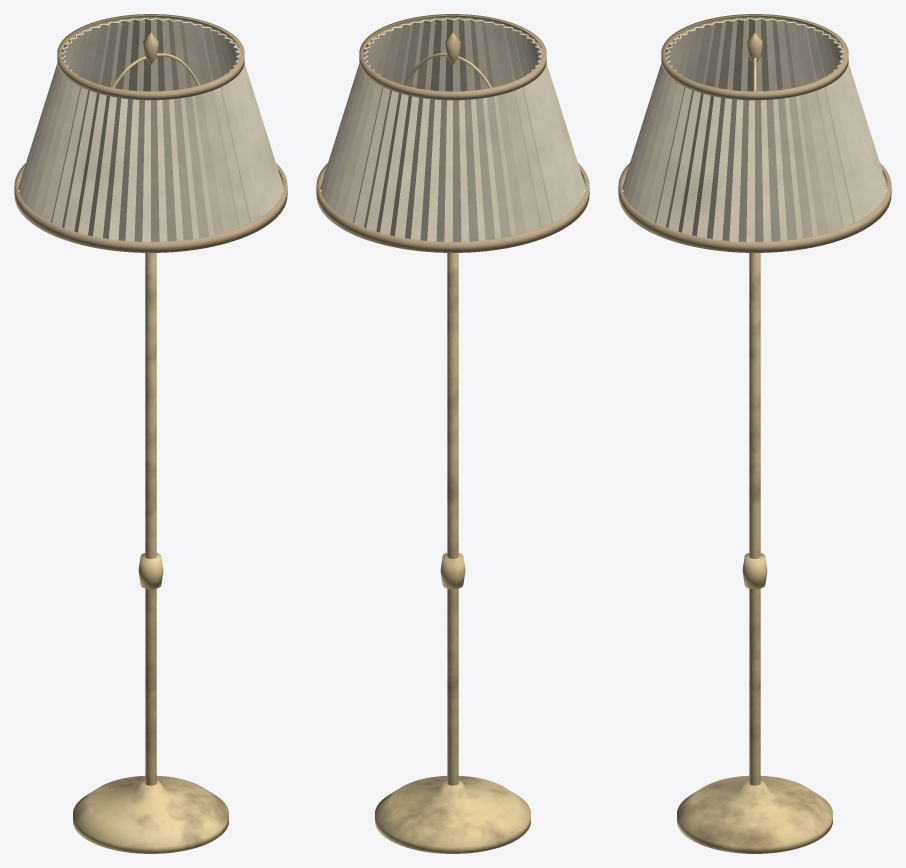
File: np_floor_lamp_1k.fbx
The picture shows the model from 3 angles, left to right: view 1: azimuth 30°, elevation 25°; view 2: azimuth 150°, elevation 25°; view 3: azimuth 270°, elevation 25°; orthographic projection.
Parts seen in each view (by area): view 1: np_floor_lamp; view 2: np_floor_lamp; view 3: np_floor_lamp.
Part boxes in pixels (x1,y1,x2,y2): np_floor_lamp: (14,14,287,853); np_floor_lamp: (316,14,589,853); np_floor_lamp: (618,14,891,853).
Bounding box in the file's own units: 0.524 × 1.67 × 0.524.
1 material, 1 textured.
